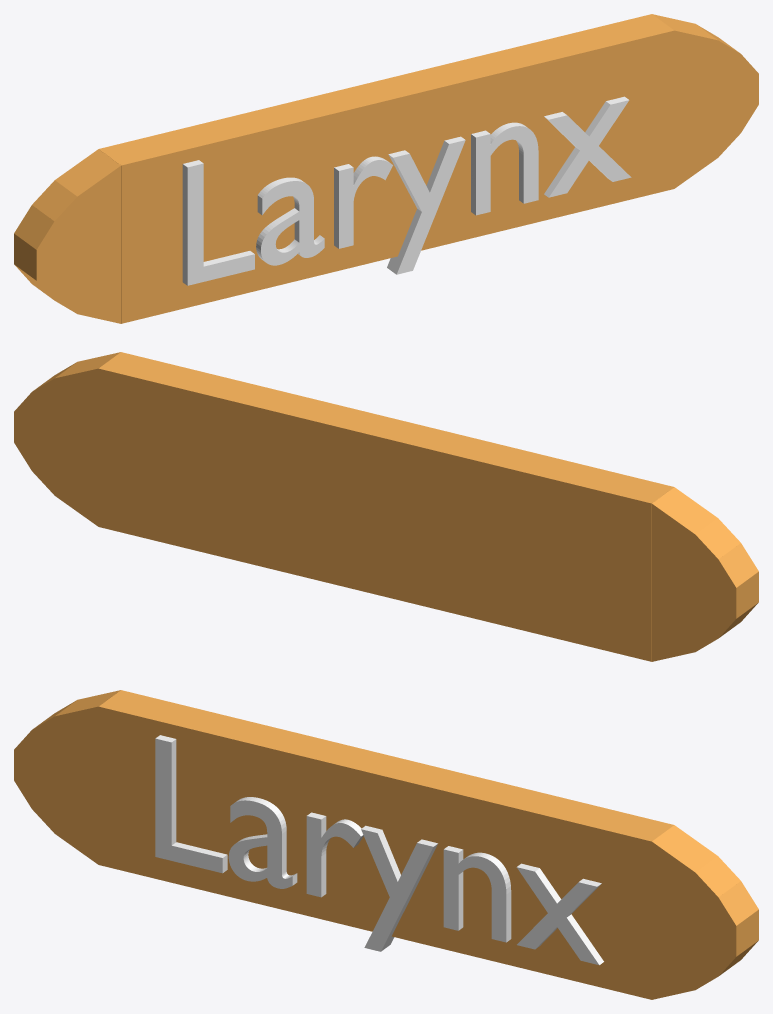
The model's file is TxtLARYNX.fbx.
The picture shows the model from 3 angles, top to bottom: view 1: azimuth 30°, elevation 25°; view 2: azimuth 150°, elevation 25°; view 3: azimuth 330°, elevation 25°; orthographic projection.
Visible parts, largest first — view 1: TagContainer.043, Text.038; view 2: TagContainer.043; view 3: TagContainer.043, Text.038.
Boxes of the visible parts, x1,y1,x2,y2 form: TagContainer.043: (14,14,758,323); Text.038: (182,96,631,285); TagContainer.043: (14,352,758,661); TagContainer.043: (14,690,758,999); Text.038: (155,735,603,965).
Bounding box in the file's own units: 197 × 44.79 × 12.93.
